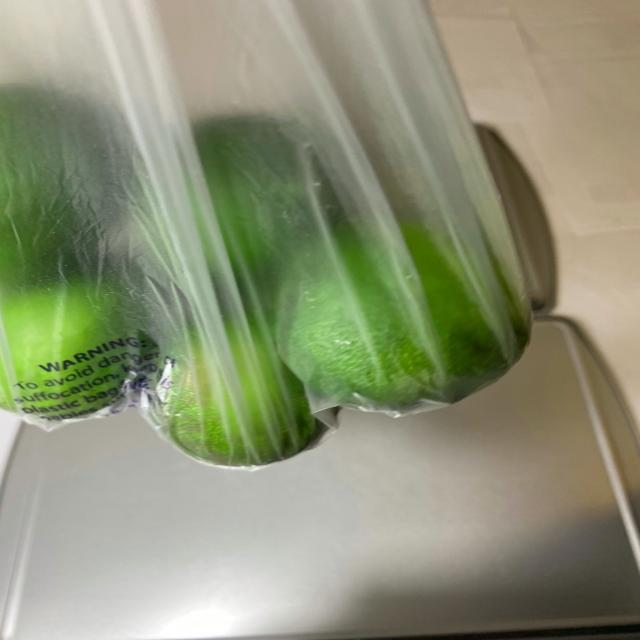lemon: (0, 100, 524, 450)
